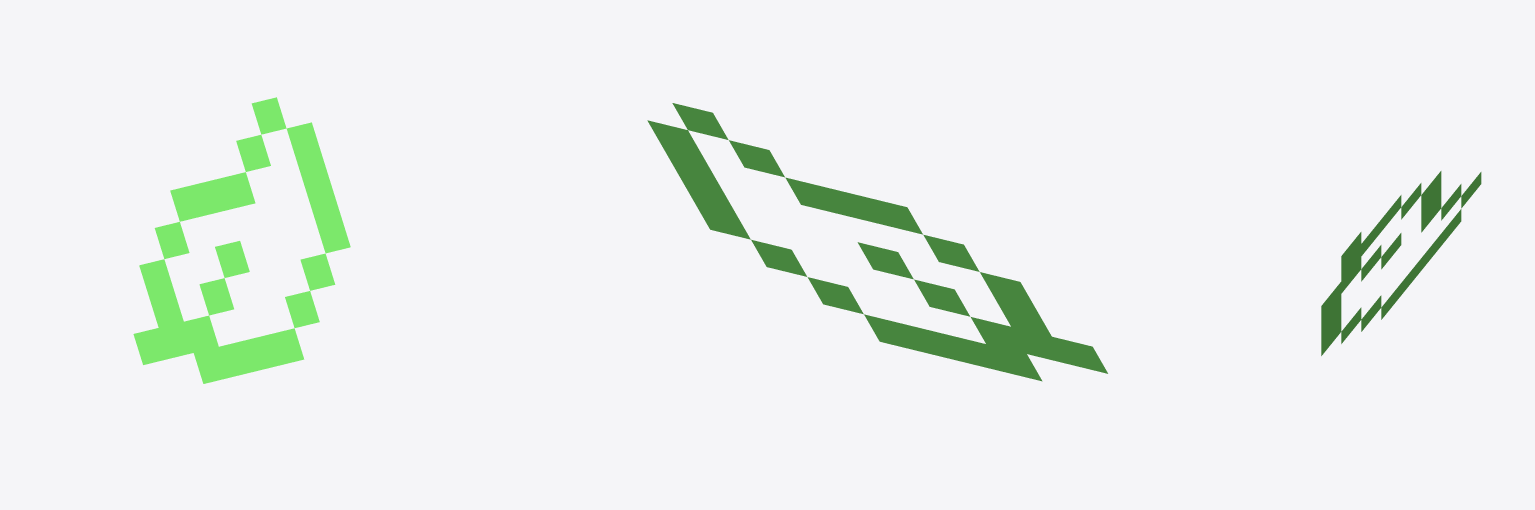
File: SM_GreenEnergy.fbx
3 renders of one model, left to right at view 1: azimuth 30°, elevation 25°; view 2: azimuth 150°, elevation 25°; view 3: azimuth 270°, elevation 25°, orthographic. The views are drawn at different scales.
Parts seen in each view (by area): view 1: Cube.049; view 2: Cube.049; view 3: Cube.049.
Part boxes in pixels (box(x1,y1,x2,y2)): Cube.049: box(133, 97, 350, 383); Cube.049: box(647, 103, 1107, 381); Cube.049: box(1321, 171, 1481, 355).
Bounding box in the file's own units: 132 × 118 × 86.48.
